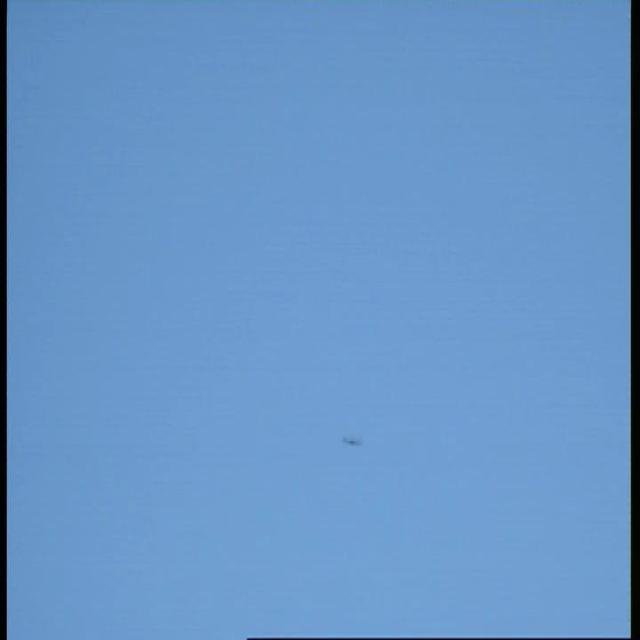drone: (335, 426, 369, 452)
